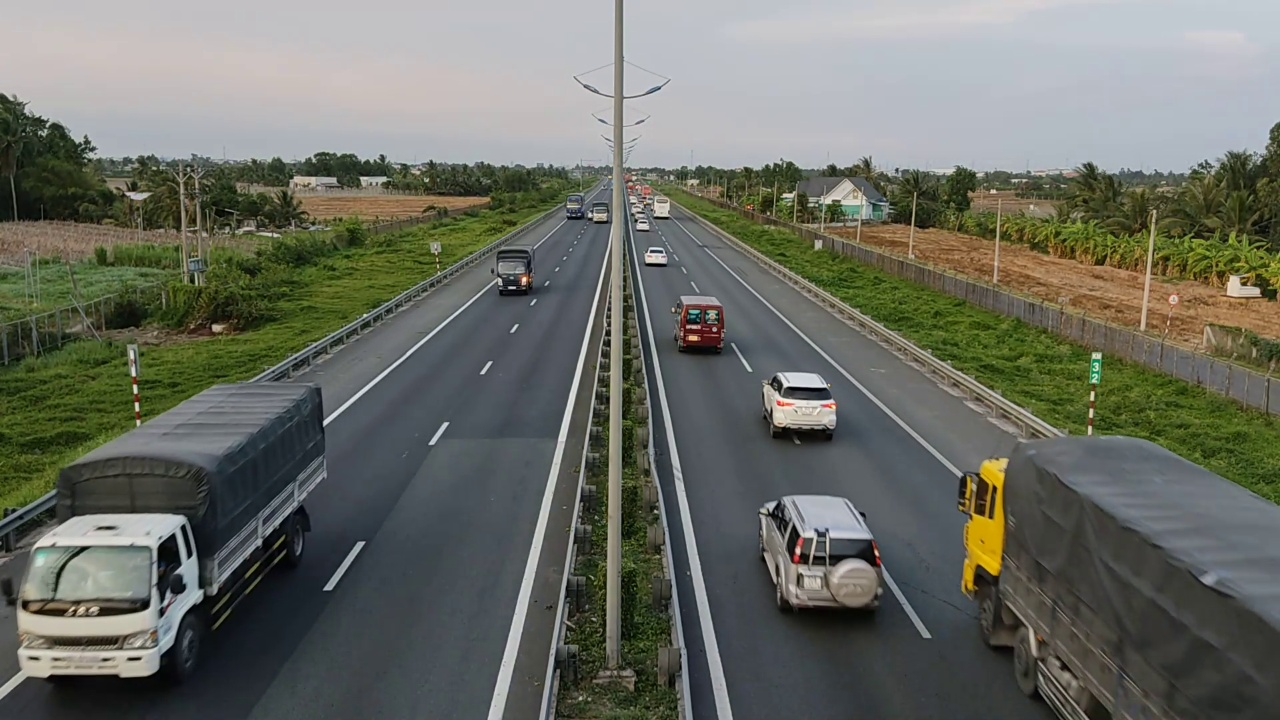car: (757, 493, 883, 615), (758, 367, 842, 449), (672, 295, 725, 351), (644, 246, 668, 266)
truck: (8, 380, 328, 685), (957, 434, 1279, 715), (486, 241, 538, 300)
